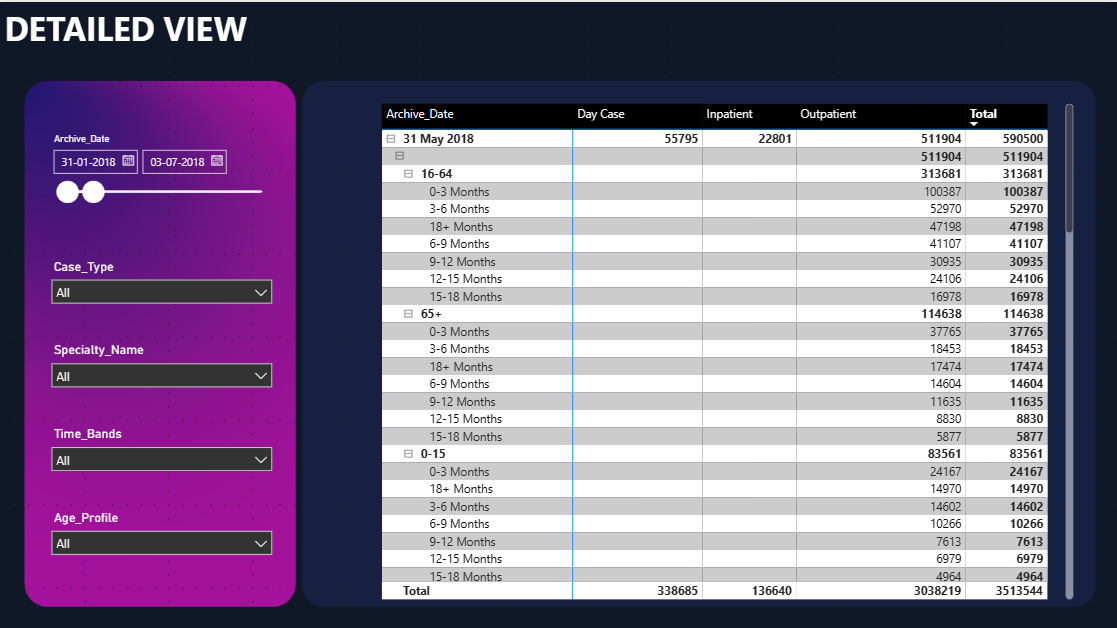

The dashboard page shown, as its layout file describes it:
{"tool":"powerbi","page":{"name":"Detail","canvas":[1280,720],"ordinal":1},"visuals":[{"type":"slicer","fields":{"Values":["All_Data.Case_Type"]},"box":[48,288,272,64],"z":0},{"type":"textbox","box":[0,0,288,80],"z":1000},{"type":"slicer","fields":{"Values":["All_Data.Specialty_Name"]},"box":[48,384,272,64],"z":2000},{"type":"slicer","fields":{"Values":["All_Data.Archive_Date"]},"box":[48,144,272,112],"z":3000},{"type":"slicer","fields":{"Values":["All_Data.Time_Bands"]},"box":[48,480,272,64],"z":4000},{"type":"slicer","fields":{"Values":["All_Data.Age_Profile"]},"box":[48,576,272,80],"z":5000},{"type":"pivotTable","fields":{"Rows":["All_Data.Archive_Date","All_Data.Specialty_Name","All_Data.Age_Profile","All_Data.Time_Bands"],"Columns":["All_Data.Case_Type"],"Values":["Sum(All_Data.Total)"]},"box":[432,112,800,576],"z":6000}]}

Visuals, with their boxes in screenshot pixels (x1, y1, x2, y2), scaled from the page's 1280x720 canvas onto the 1117x628 screenshot:
slicer - All_Data.Case_Type: [42,251,279,307]
textbox: [0,0,251,70]
slicer - All_Data.Specialty_Name: [42,335,279,391]
slicer - All_Data.Archive_Date: [42,126,279,223]
slicer - All_Data.Time_Bands: [42,419,279,474]
slicer - All_Data.Age_Profile: [42,502,279,572]
pivotTable - All_Data.Archive_Date x All_Data.Specialty_Name: [377,98,1075,600]
